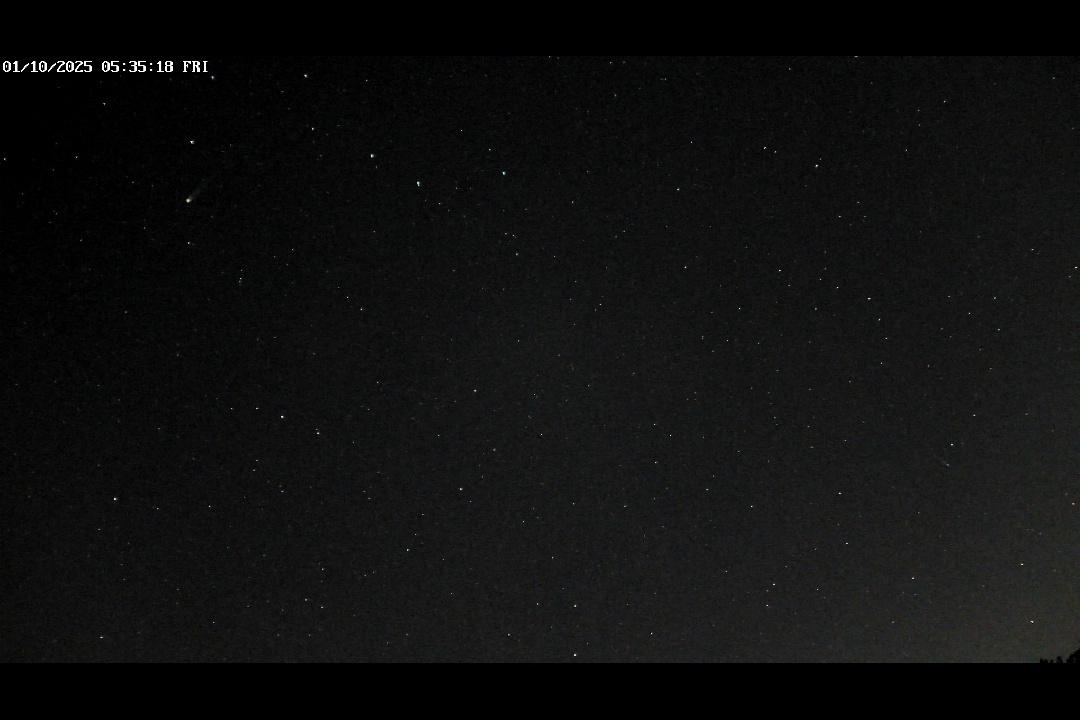Plane: (182, 181, 209, 209), (932, 453, 952, 470)
